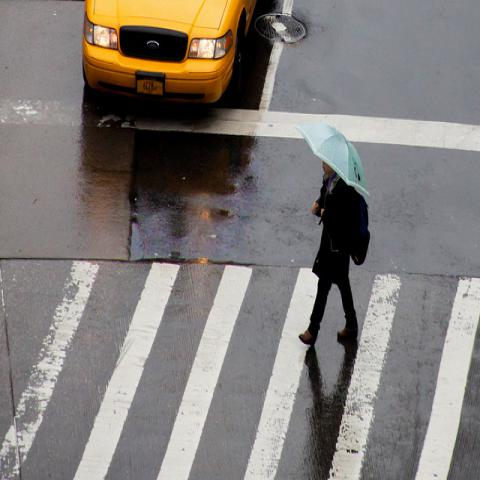car: (82, 0, 258, 103)
